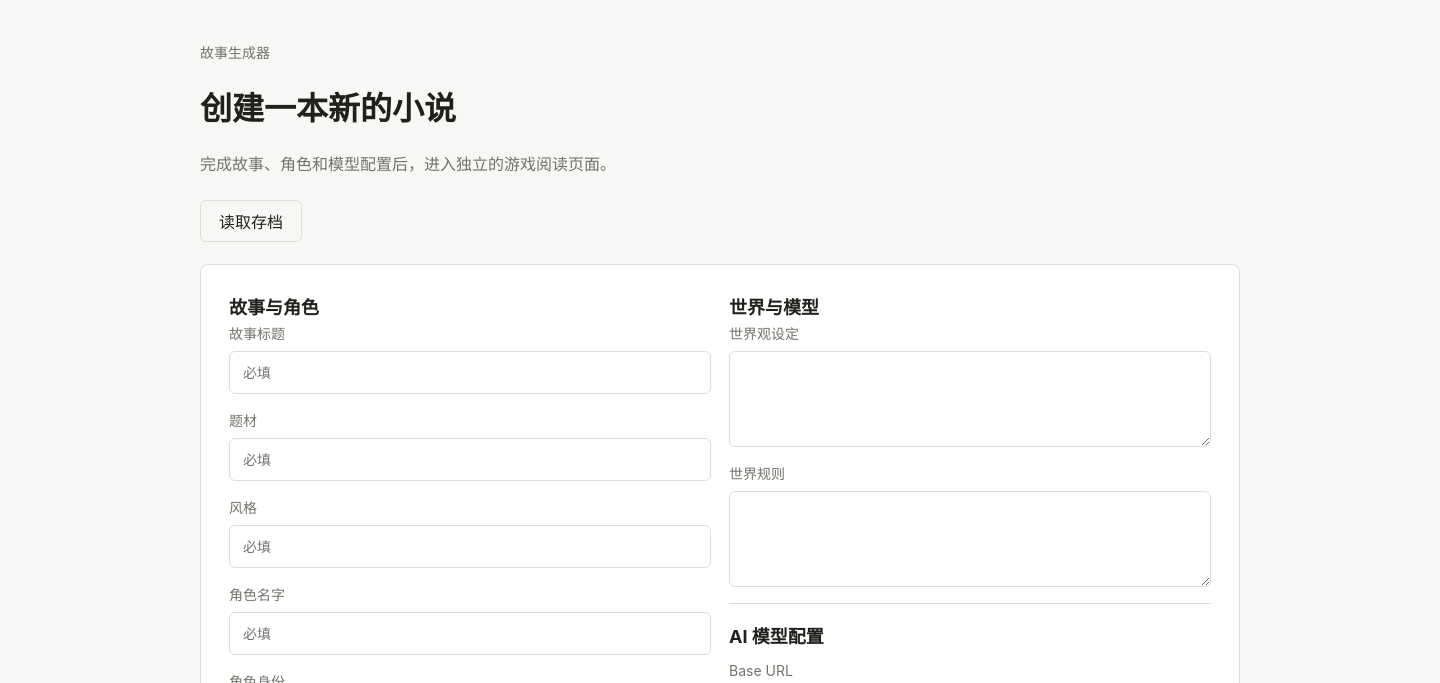
Test: CreateStoryPage › toggles the local save list from the load save button
Expected: the field labelled "本地存档" is not shown
Click the button "读取存档": click(251, 221) [200,200,302,242]
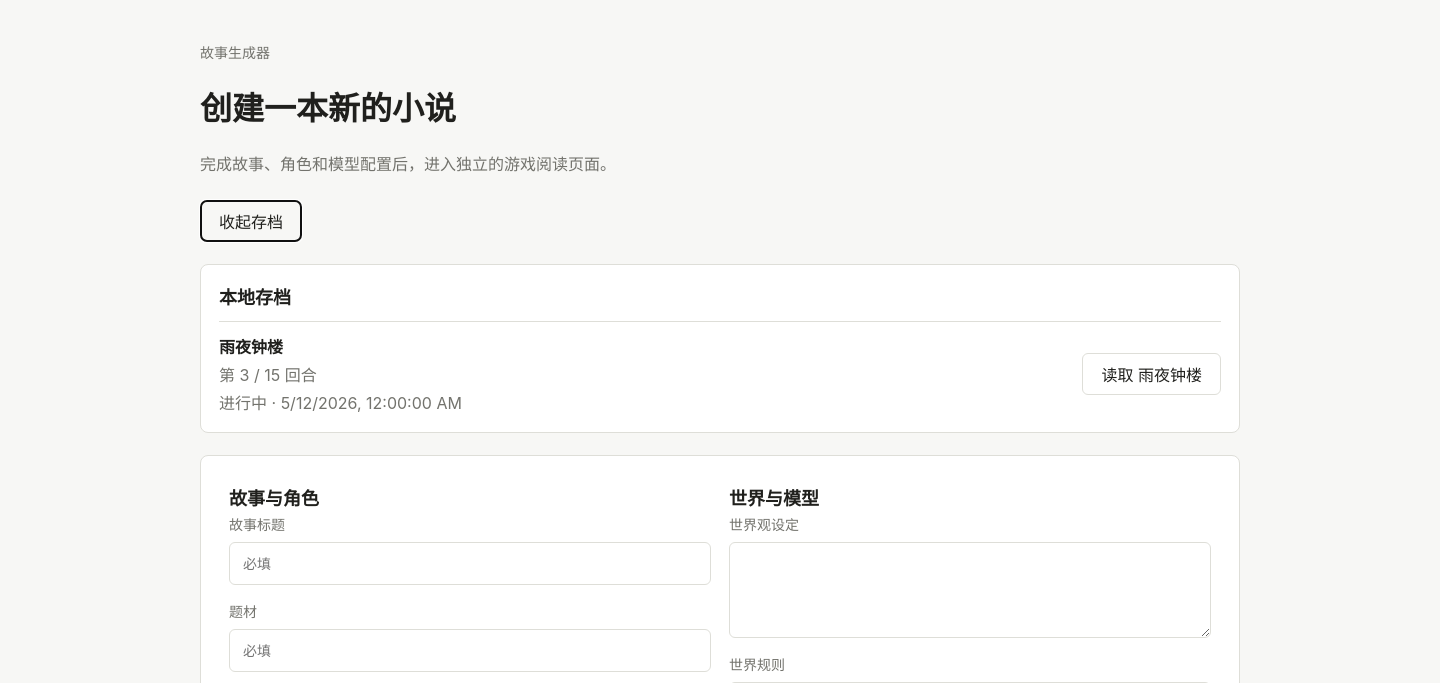
Now the element labelled "本地存档" is shown, box [200,264,1240,433]
Now the button "收起存档" is expanded
Click the button "收起存档": click(251, 221) [200,200,302,242]
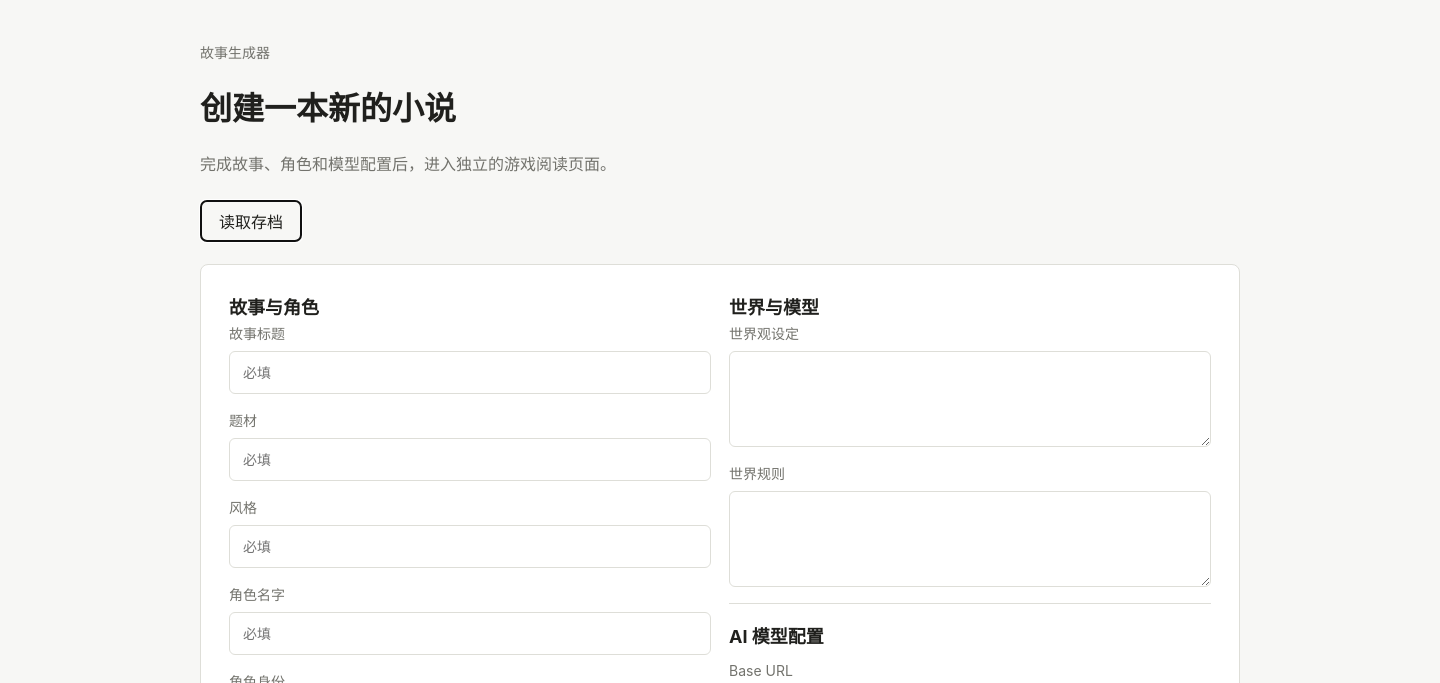
Now the heading labelled "本地存档" is gone
Now the button "读取存档" is collapsed, box [200,200,302,242]
